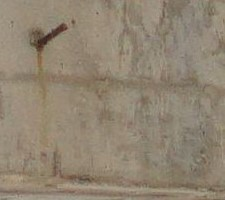Exposed reinforcement: (36, 22, 69, 53)
